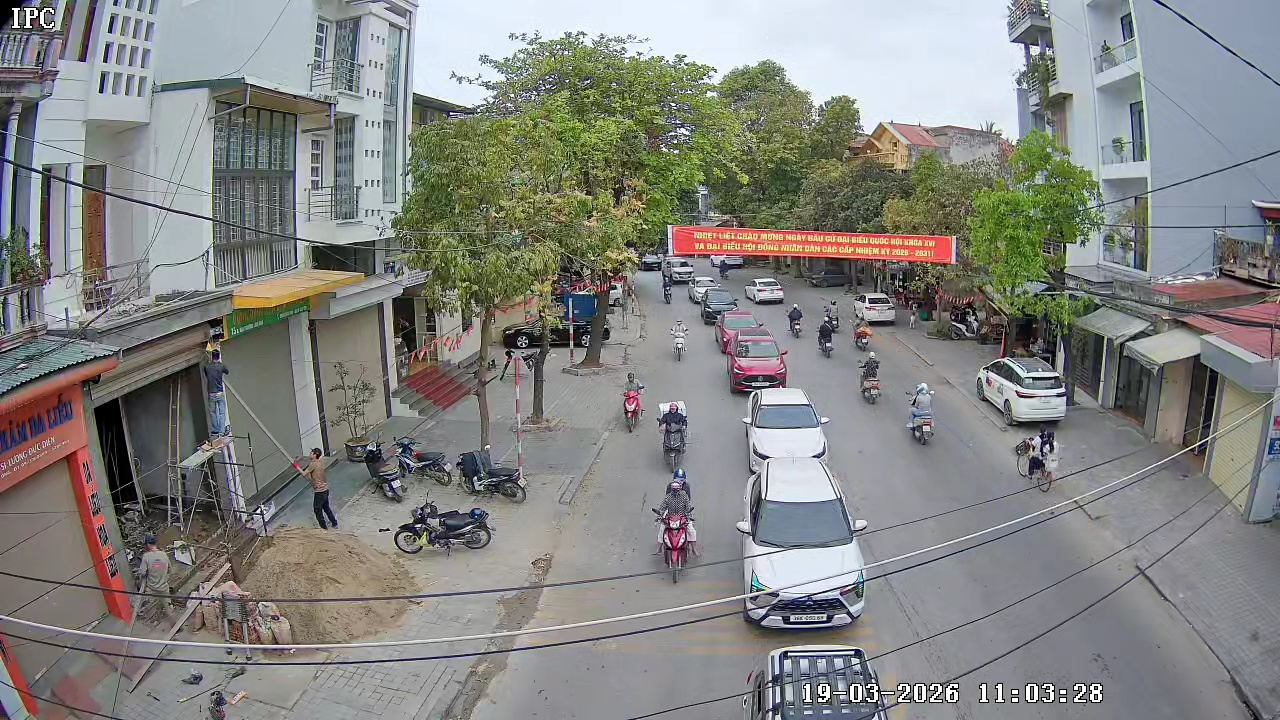bike: (1014, 420, 1059, 493)
car: (735, 458, 869, 630), (741, 383, 832, 469), (975, 353, 1069, 427), (725, 331, 790, 395), (714, 309, 766, 353), (710, 295, 736, 339), (747, 275, 785, 304), (864, 295, 896, 325)
motorbike: (393, 496, 496, 556), (650, 475, 702, 585), (458, 437, 530, 502), (656, 400, 689, 470), (905, 381, 938, 446), (620, 371, 646, 433), (856, 349, 883, 405), (817, 319, 836, 358), (852, 312, 871, 351), (670, 321, 688, 361), (787, 304, 804, 338), (661, 276, 672, 306)
pedestrian: (294, 447, 340, 530)
